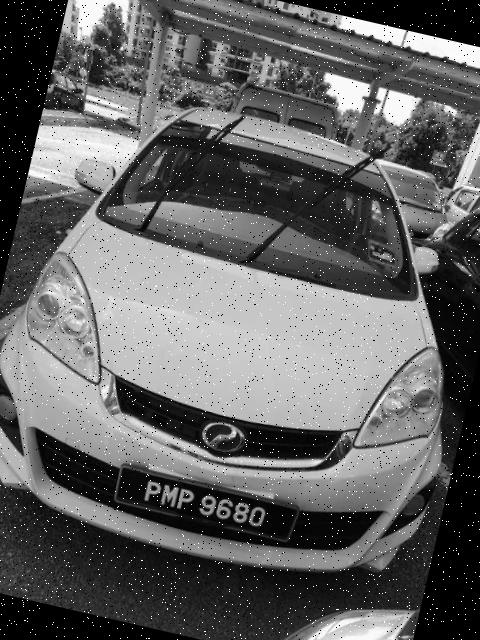License_Plate: (112, 462, 303, 546)
car: (1, 72, 480, 607)
